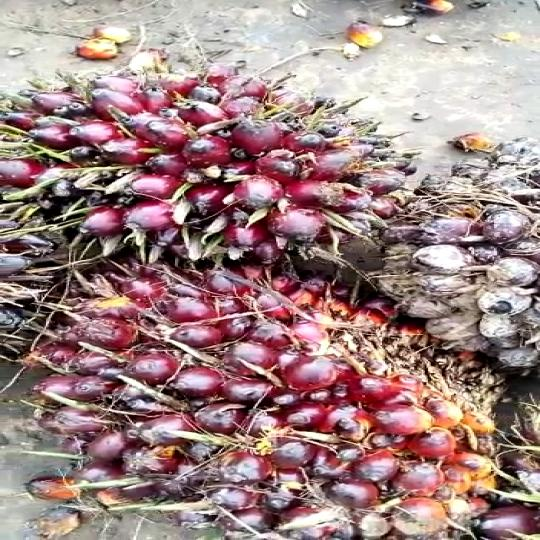kurang masak: (5, 277, 513, 540), (0, 46, 363, 274), (406, 141, 540, 393)
